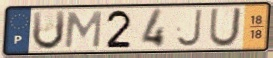2: (105, 9, 133, 50)
4: (140, 6, 168, 50)
J: (175, 8, 204, 49)
M: (63, 10, 104, 49)
U: (30, 9, 67, 52), (208, 6, 244, 48)
